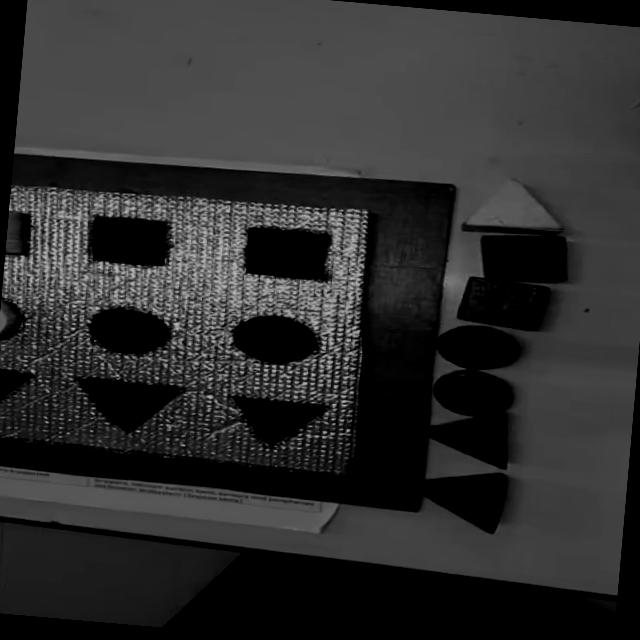bcircle: (432, 322, 522, 374)
bcube: (474, 229, 570, 286)
btriangle: (425, 409, 511, 469)
mtcircle: (226, 312, 322, 368), (84, 304, 174, 358), (0, 298, 24, 341)
mtcube: (238, 223, 332, 283), (86, 213, 174, 270), (5, 210, 32, 257)
mttriangle: (70, 374, 184, 438), (223, 392, 329, 453), (0, 367, 34, 412)
rcircle: (430, 368, 516, 420)
rcube: (454, 274, 552, 332)
rtriangle: (418, 466, 508, 534)
wb: (0, 177, 386, 482)
ytriangle: (461, 175, 566, 239)
